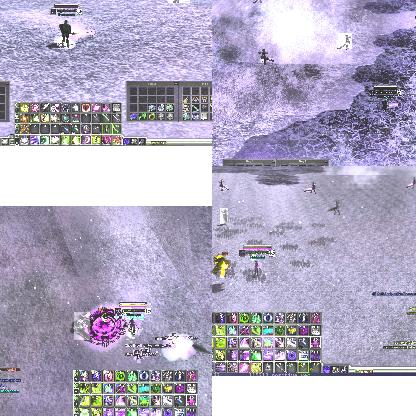caliana: (74, 312, 90, 340), (338, 33, 352, 49), (260, 49, 274, 63), (328, 200, 340, 216), (303, 182, 315, 194), (220, 208, 228, 224), (405, 177, 416, 188), (218, 179, 228, 191), (253, 0, 263, 3)
